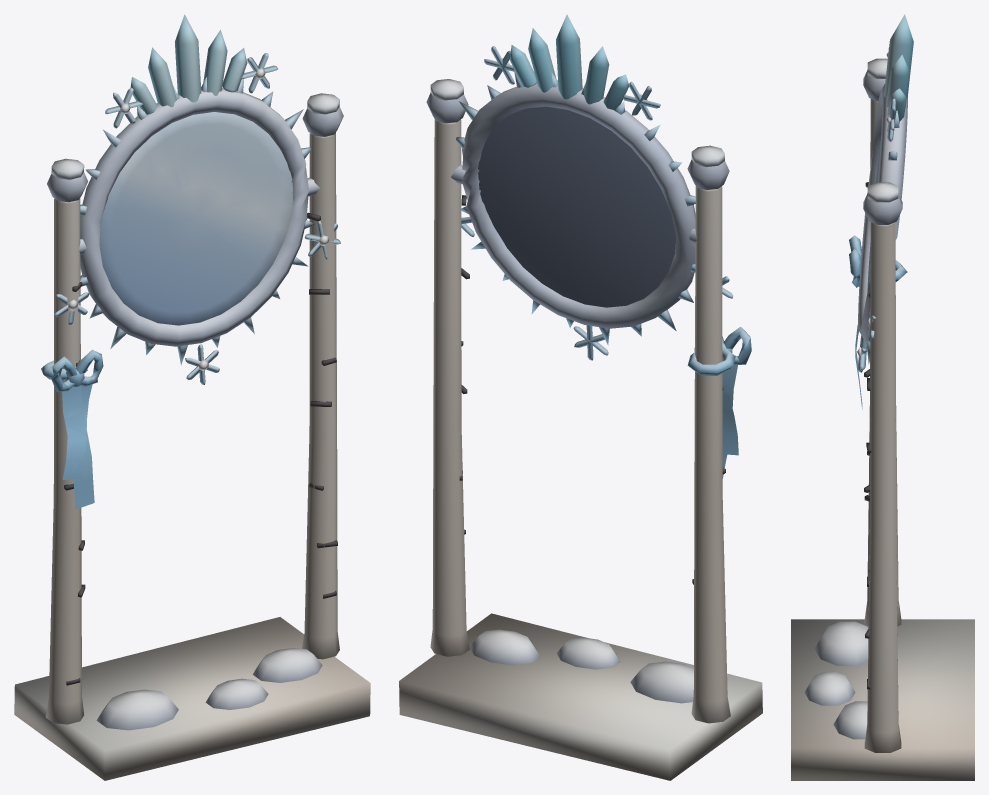
The model's file is furn-trophyFrostMirror.glb.
The picture shows the model from 3 angles, left to right: view 1: azimuth 30°, elevation 25°; view 2: azimuth 150°, elevation 25°; view 3: azimuth 270°, elevation 25°; orthographic projection. The views are drawn at different scales.
Parts seen in each view (by area): view 1: furn-trophyFrostMirror; view 2: furn-trophyFrostMirror; view 3: furn-trophyFrostMirror.
Boxes of the visible parts, x1,y1,x2,y2 form: furn-trophyFrostMirror: (14, 14, 370, 780); furn-trophyFrostMirror: (399, 14, 762, 780); furn-trophyFrostMirror: (791, 14, 974, 780).
Size of the model in its own units: 0.5003 by 1.1 by 0.26.
